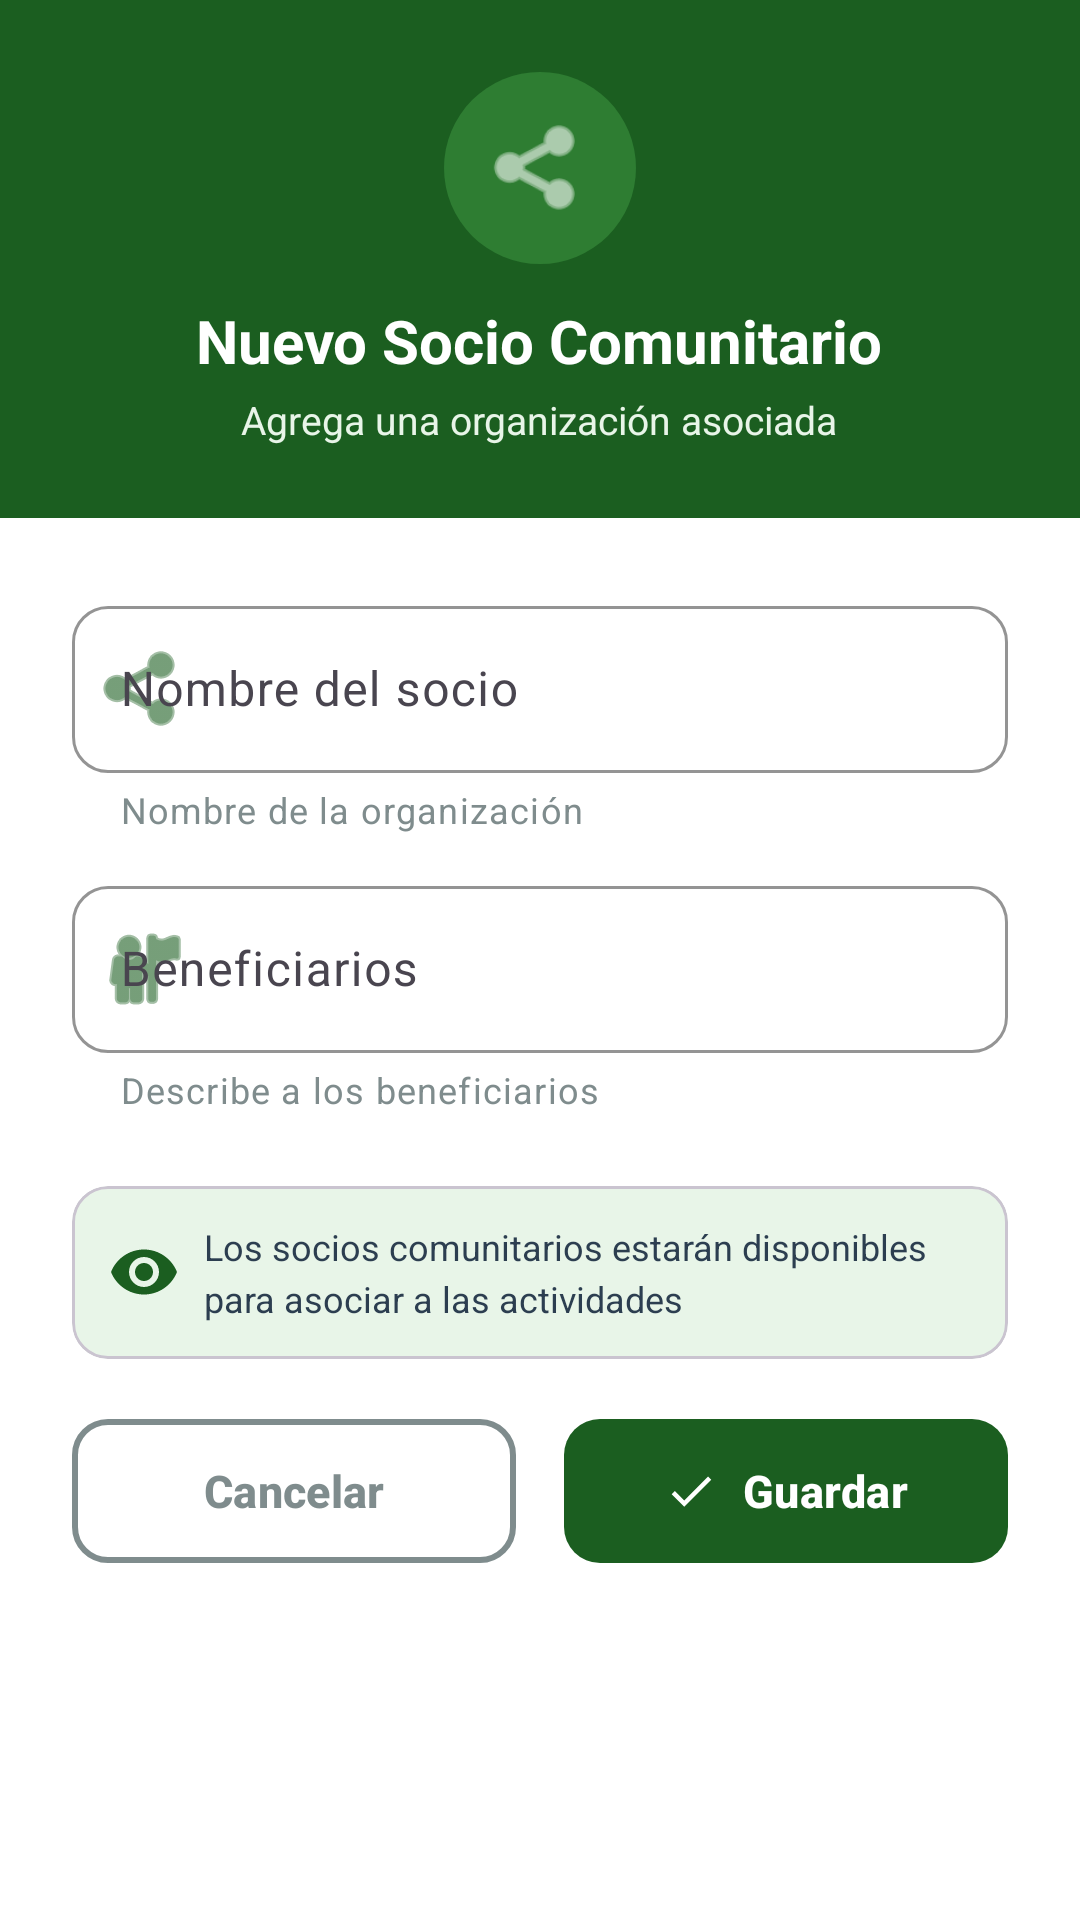

Screen size 1080 × 1920. Icon name, then its center in pixels as [x,y]:
share: [534,167]
view: [144,1272]
